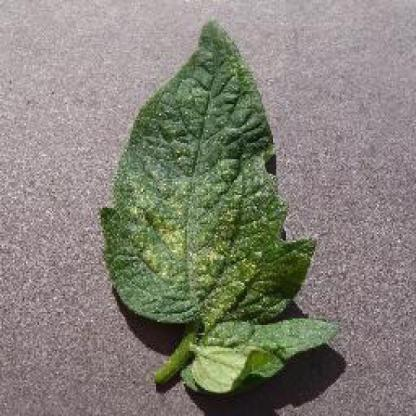Tomato_Spider_Mites: (99, 24, 316, 321)
